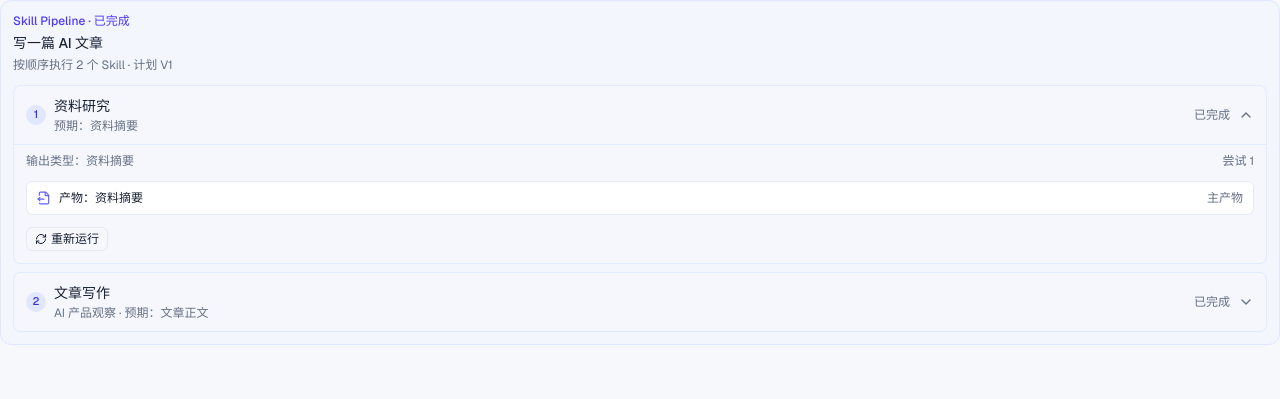
it: ChatPipelineCard › folds each artifact independently
This screenshot has width=1280, height=399.
Click the heading "产物：资料摘要 主产物" at (77, 198), box [37,190,1243,206]
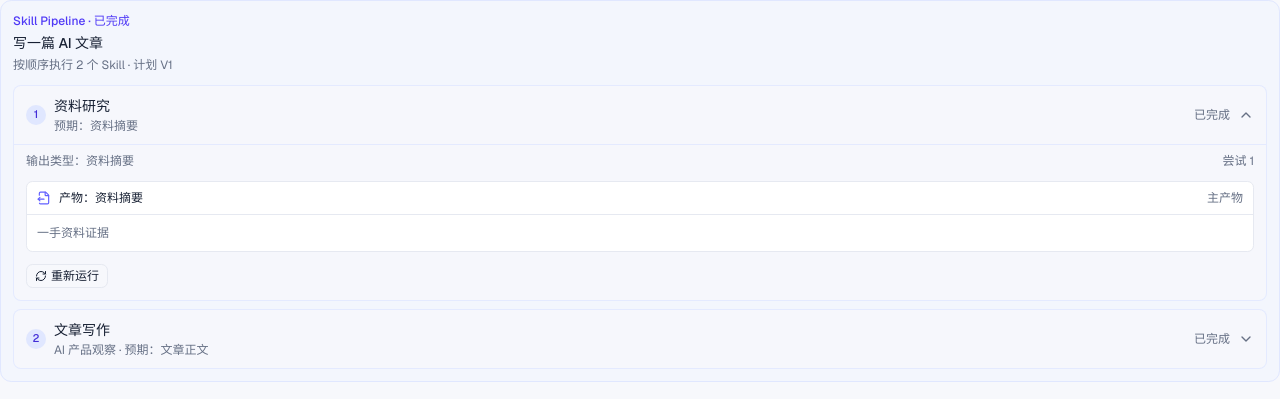
Expected: the text "一手资料证据" is shown, [27,214,1253,251]
